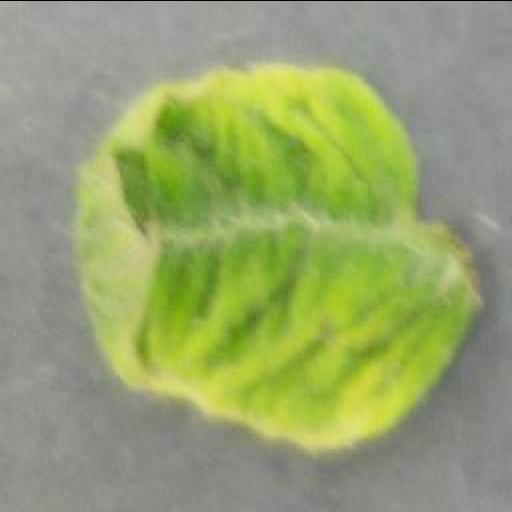disease_tomato: (73, 60, 491, 456)
